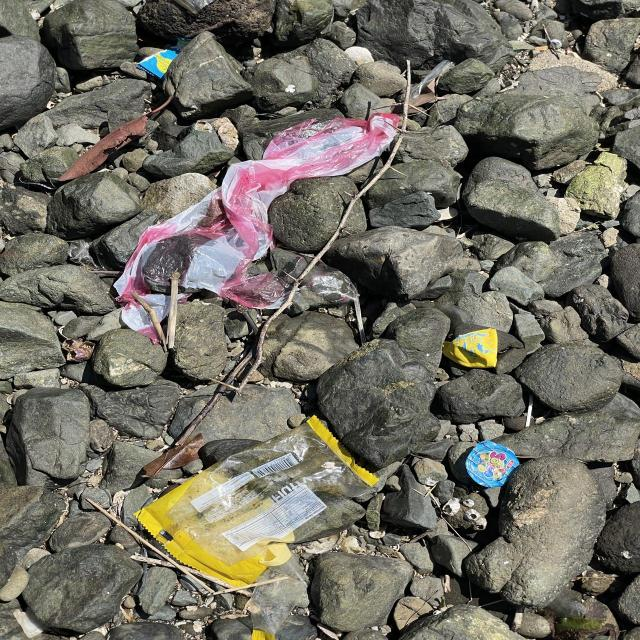plastic_waste: (118, 113, 408, 342), (134, 415, 382, 593), (466, 440, 522, 488), (442, 331, 498, 372), (139, 50, 182, 81)
